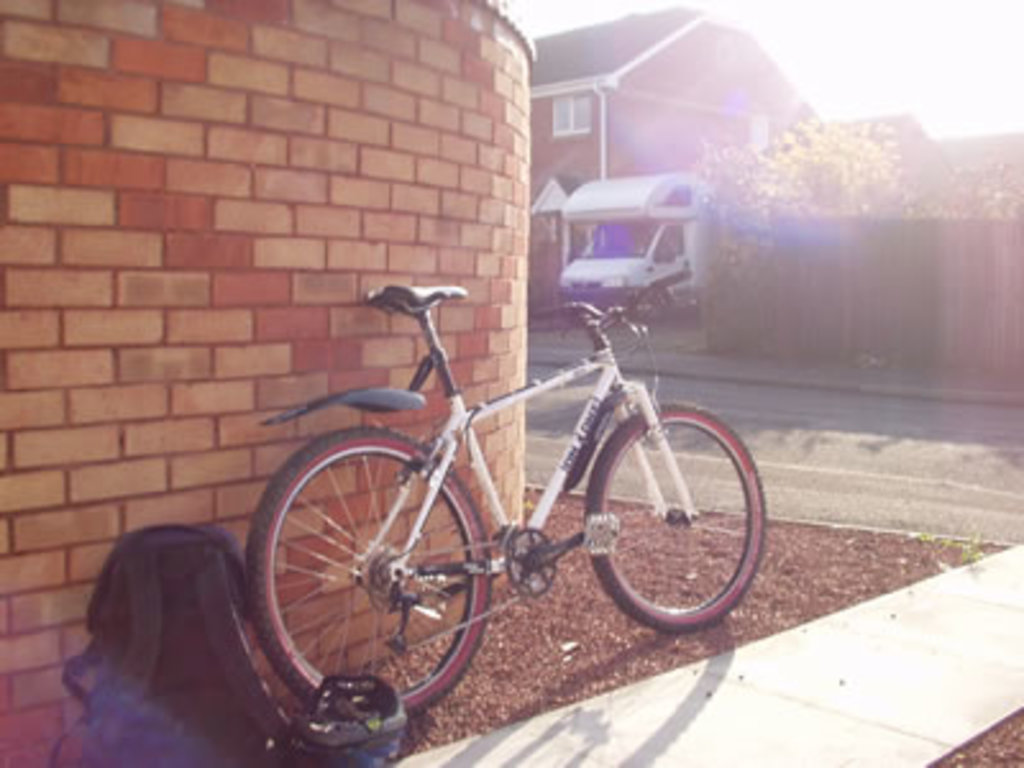bicycle: (284, 253, 737, 726)
